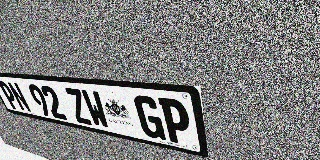2: (39, 85, 67, 120)
9: (26, 84, 54, 117)
G: (133, 95, 166, 141)
N: (6, 82, 32, 113)
P: (158, 97, 193, 146), (0, 81, 22, 111)
W: (80, 89, 111, 129)
Z: (63, 88, 93, 126)
